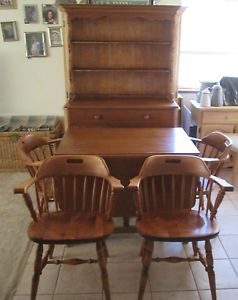chairs: (16, 157, 127, 300), (130, 154, 233, 300)
